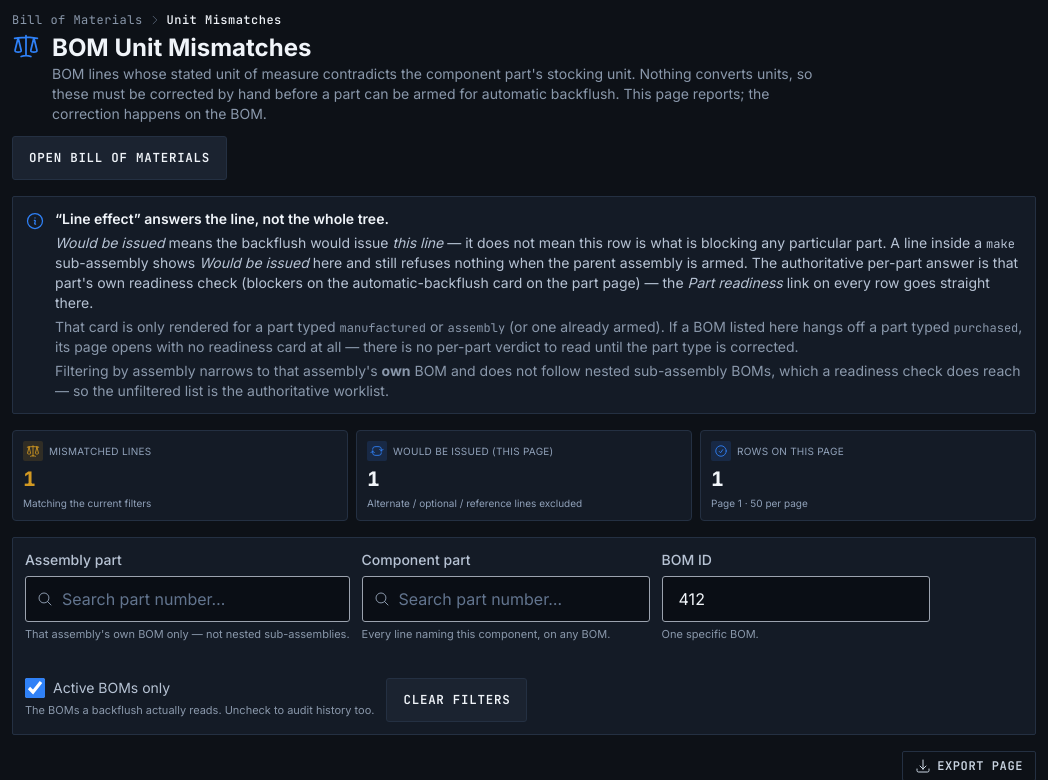
Test case: BOMUomMismatches — filters drive the request params › Clear filters clears the BOM ID box too — the debounced filter does not resurrect itself
Expected: the field labelled "BOM ID" holds "412", [662,576,930,622]
Click the button "Clear filters" at (457, 700), box [386,678,527,722]
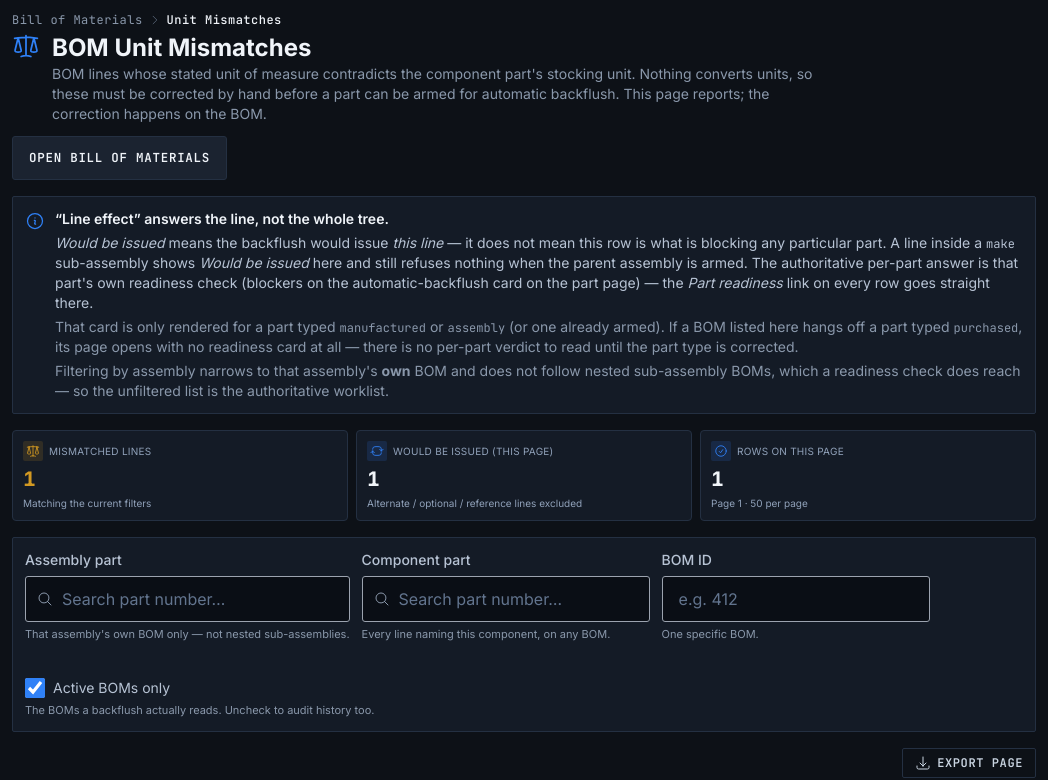
Now the field labelled "BOM ID" is empty, box [662,576,930,622]
Now no buttons "Clear filters" are shown
